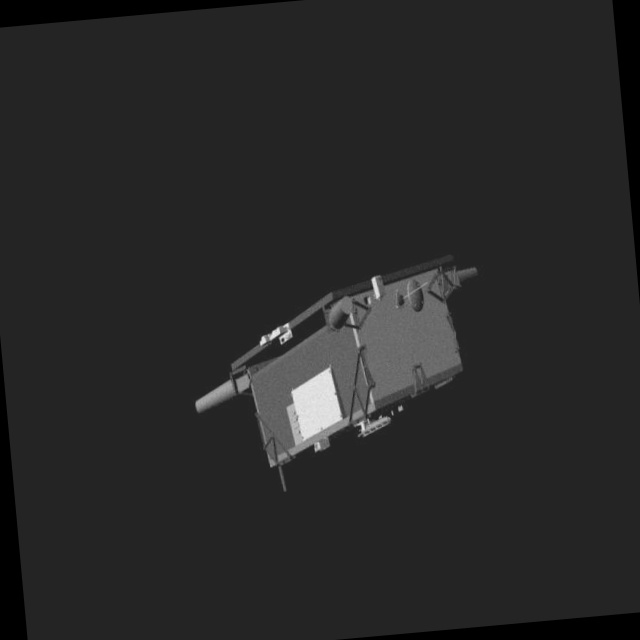satellite: (172, 232, 495, 510)
